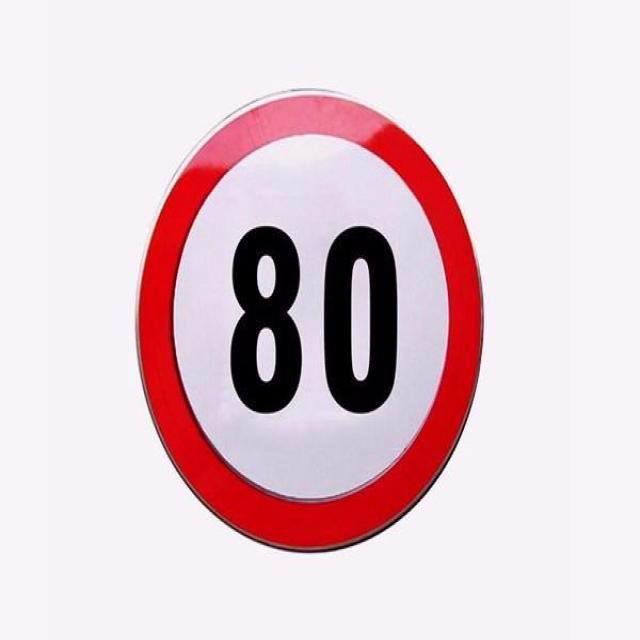speed limit 80: (135, 89, 484, 554)
